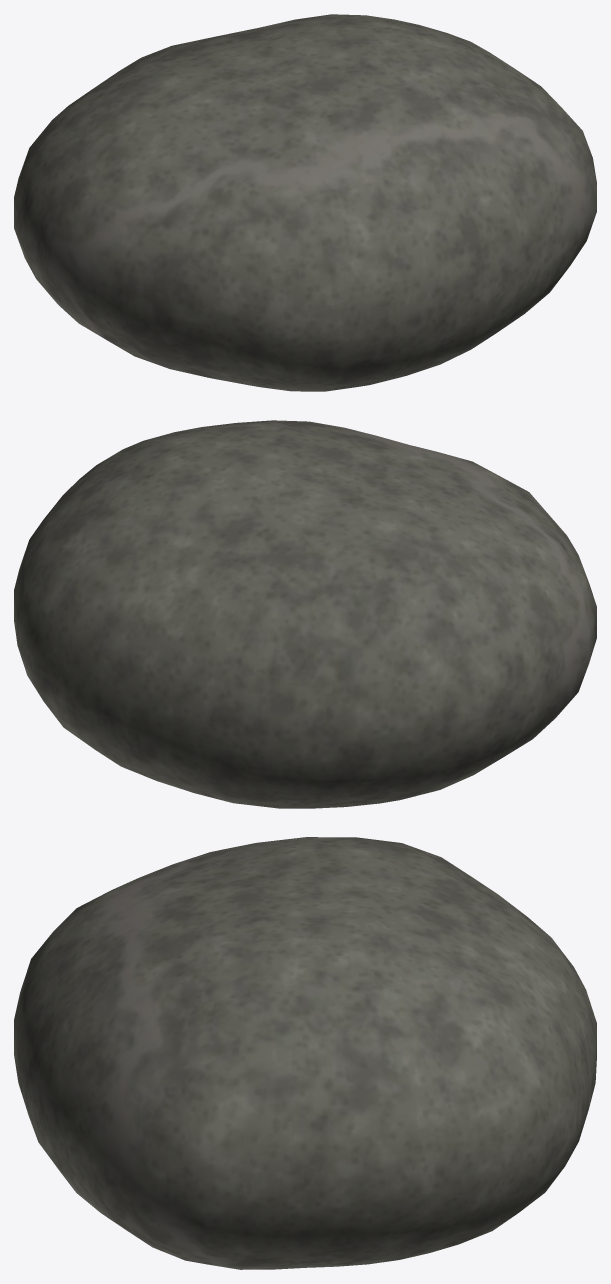
Rendered from chunky_cobble_01.glb.
3 views of the same model, one above another, from view 1: azimuth 30°, elevation 25°; view 2: azimuth 150°, elevation 25°; view 3: azimuth 270°, elevation 25° (orthographic). The views are drawn at different scales.
Parts seen in each view (by area): view 1: chunky_cobble_01; view 2: chunky_cobble_01; view 3: chunky_cobble_01.
Part boxes in pixels (x1=…): chunky_cobble_01: x1=14, y1=14, x2=596, y2=391; chunky_cobble_01: x1=14, y1=420, x2=596, y2=808; chunky_cobble_01: x1=14, y1=837, x2=596, y2=1269.
Size of the model in its own units: 0.0578 by 0.0318 by 0.0519.
Materials: 1 (1 with a texture image).
